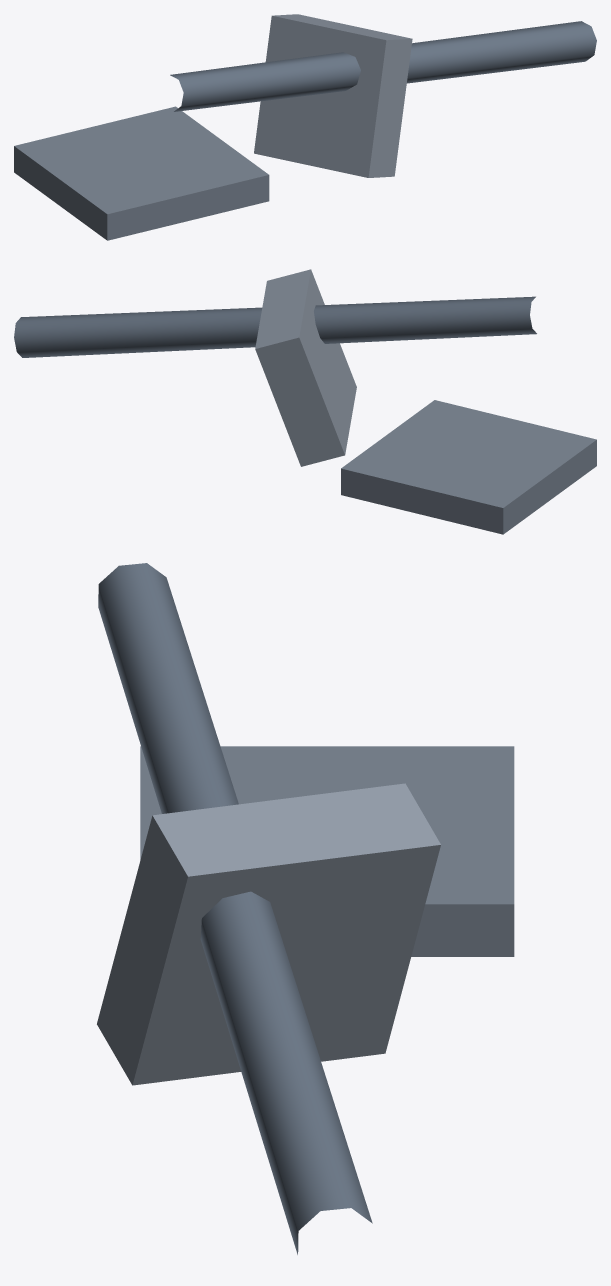
The model's file is flare-stack-wreck.glb.
3 renders of one model, top to bottom at view 1: azimuth 30°, elevation 25°; view 2: azimuth 150°, elevation 25°; view 3: azimuth 270°, elevation 25°, orthographic. The views are drawn at different scales.
Parts seen in each view (by area): view 1: Root; view 2: Root; view 3: Root.
Boxes of the visible parts, box(x1,y1,x2,y2) form: Root: box(14, 14, 596, 240); Root: box(14, 269, 596, 534); Root: box(97, 563, 514, 1254).
Bounding box in the file's own units: 10.46 × 3.07 × 3.57.
